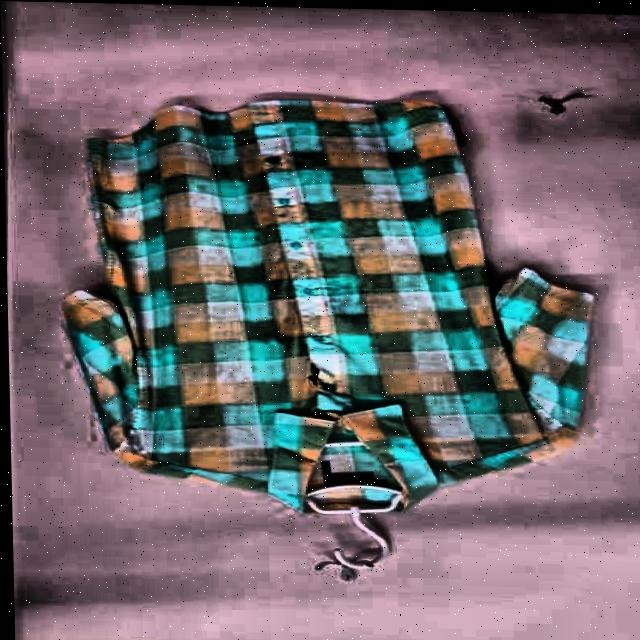clothes: (56, 84, 599, 518)
